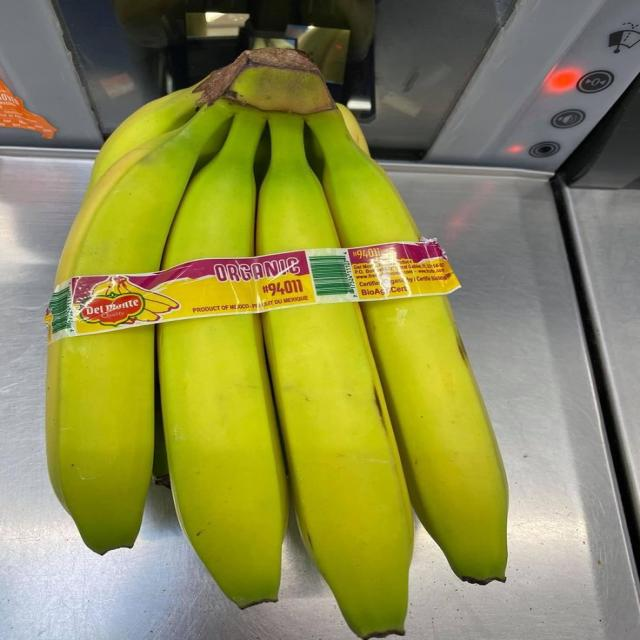unpeal banana: (263, 304, 413, 638), (361, 296, 507, 583), (158, 315, 287, 608), (47, 326, 154, 553), (90, 85, 199, 186)
